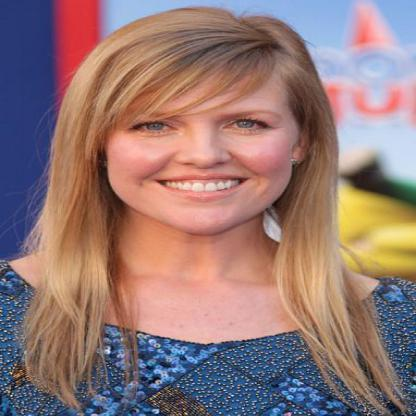long-hair: (21, 231, 362, 292)
